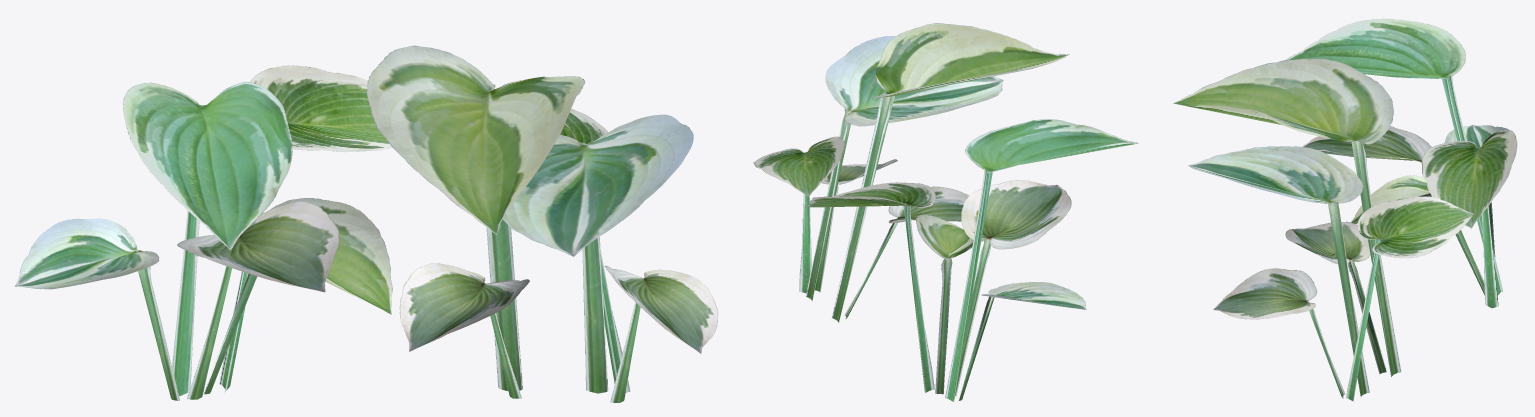
The model's file is plant_small_wg_00_i-corner07.fbx.
3 views of the same model, side by side, from view 1: azimuth 30°, elevation 25°; view 2: azimuth 150°, elevation 25°; view 3: azimuth 270°, elevation 25° (orthographic). The views are drawn at different scales.
Visible parts, largest first — view 1: plant_small_wg_00_i-corner07; view 2: plant_small_wg_00_i-corner07; view 3: plant_small_wg_00_i-corner07.
Boxes of the visible parts, bbox=[...] form: plant_small_wg_00_i-corner07: bbox=[14, 45, 718, 402]; plant_small_wg_00_i-corner07: bbox=[753, 23, 1138, 402]; plant_small_wg_00_i-corner07: bbox=[1173, 18, 1517, 401].
Size of the model in its own units: 61.98 by 42.18 by 51.99.
Materials: 1 (1 with a texture image).
